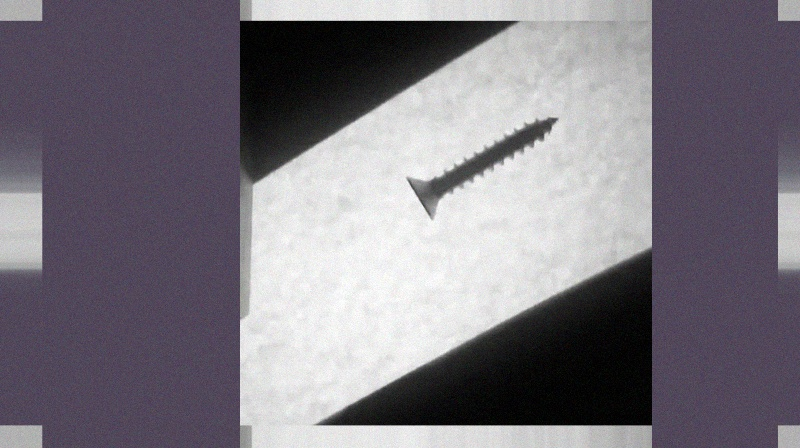S001: (402, 109, 558, 224)
